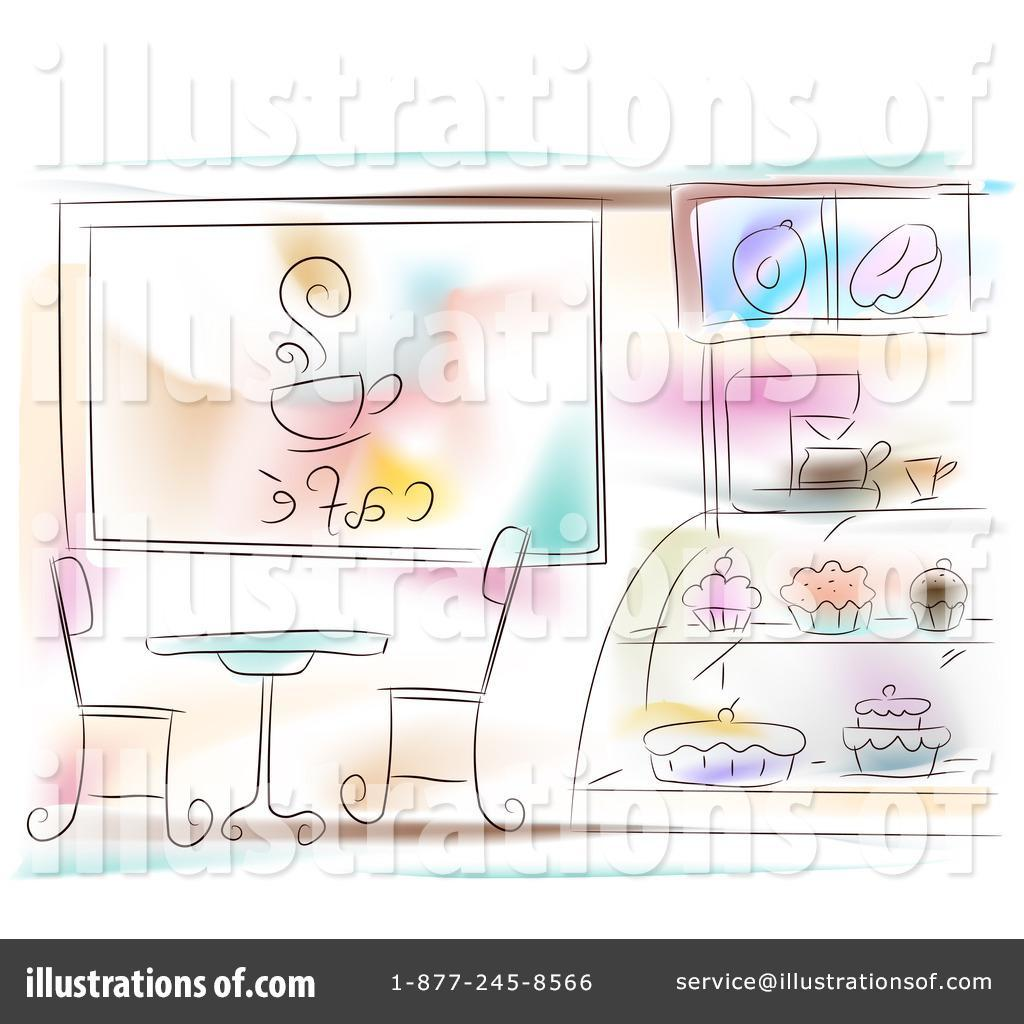chair: (345, 516, 555, 832), (36, 556, 215, 842)
diningtable: (136, 626, 389, 850)
